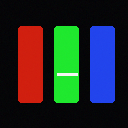3 line_h: (57, 73, 77, 75)
